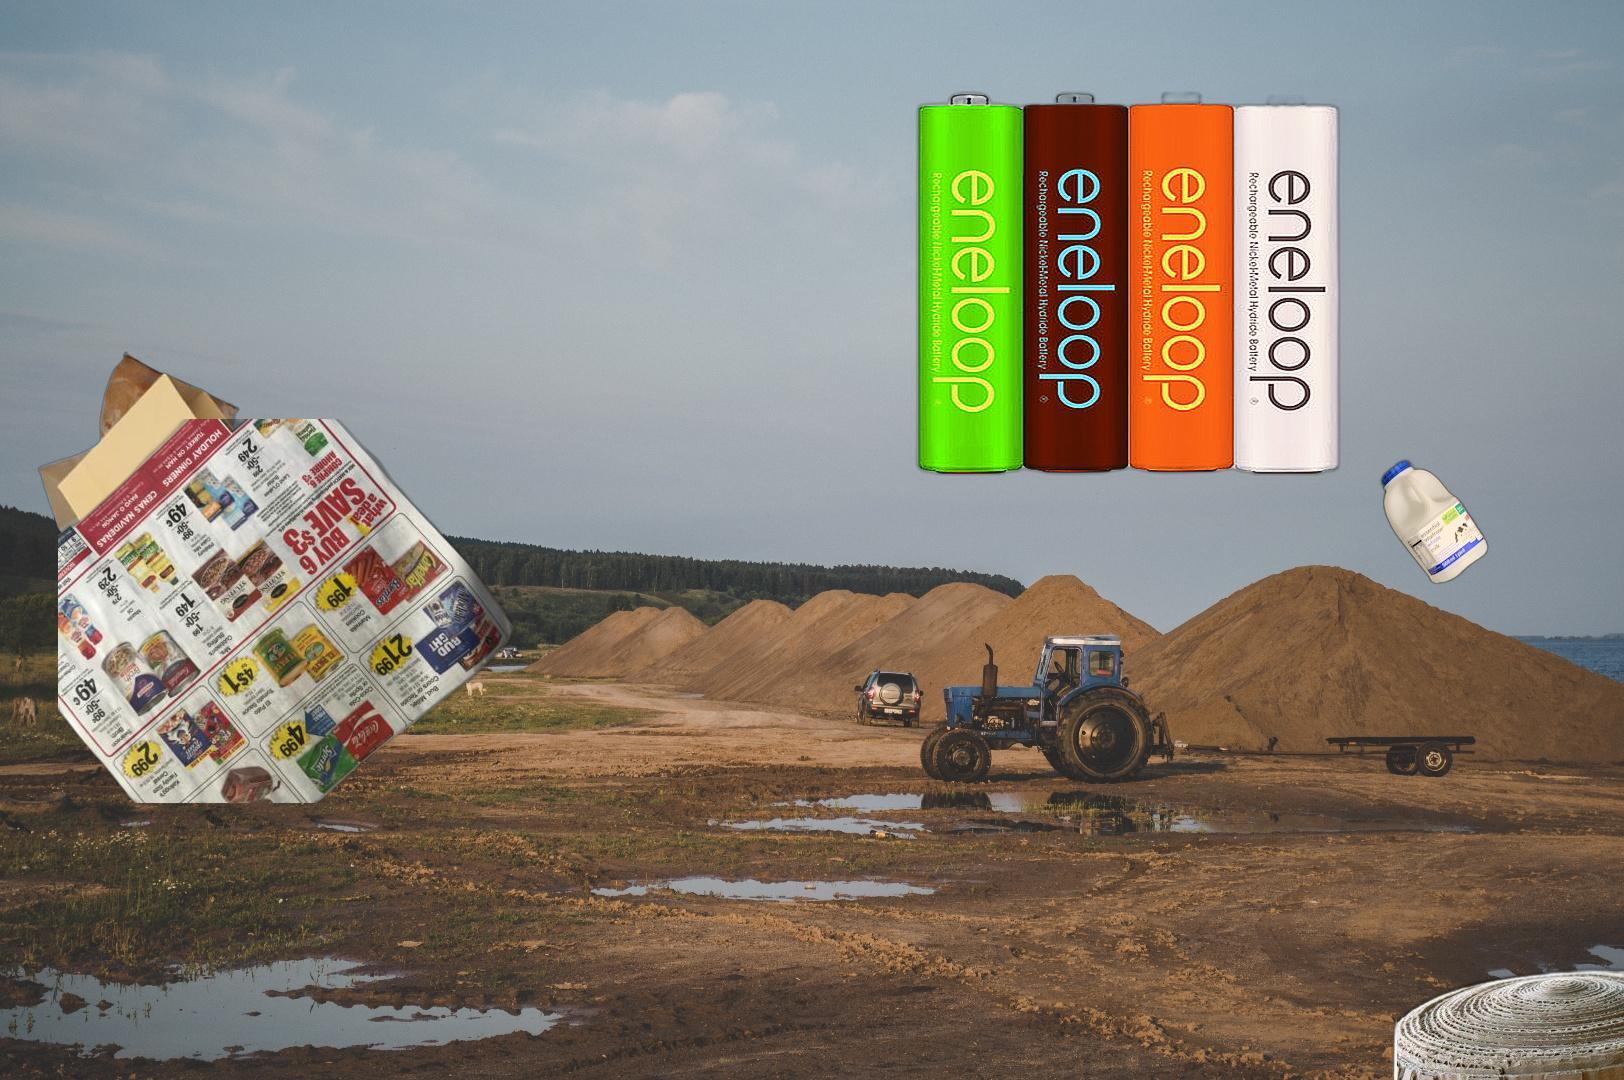battery: (911, 86, 1347, 482)
paper: (58, 419, 519, 803)
paper-bag: (35, 350, 261, 592)
plastic-bottles: (1377, 457, 1493, 587)
trashbox-cardboard: (1378, 963, 1624, 1080)
